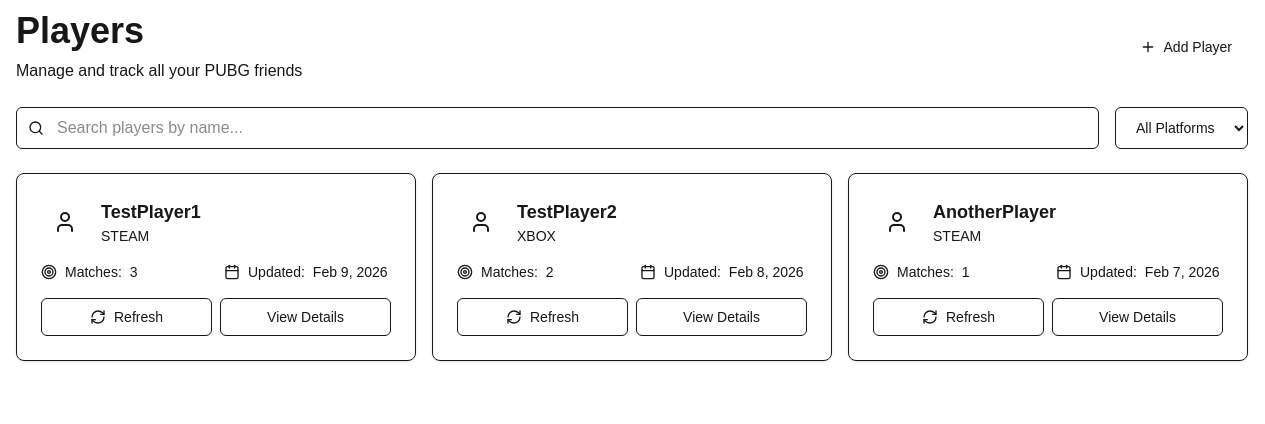
Test: Players Page Integration Tests › shows empty state when no players match filters
Expected: the heading "TestPlayer1" is shown, [101,198,201,226]
Type "NonExistentPlayer" into the field with placeholder "Search players by name...".
click(558, 128); type("NonExistentPlayer")  # box [16,107,1099,149]
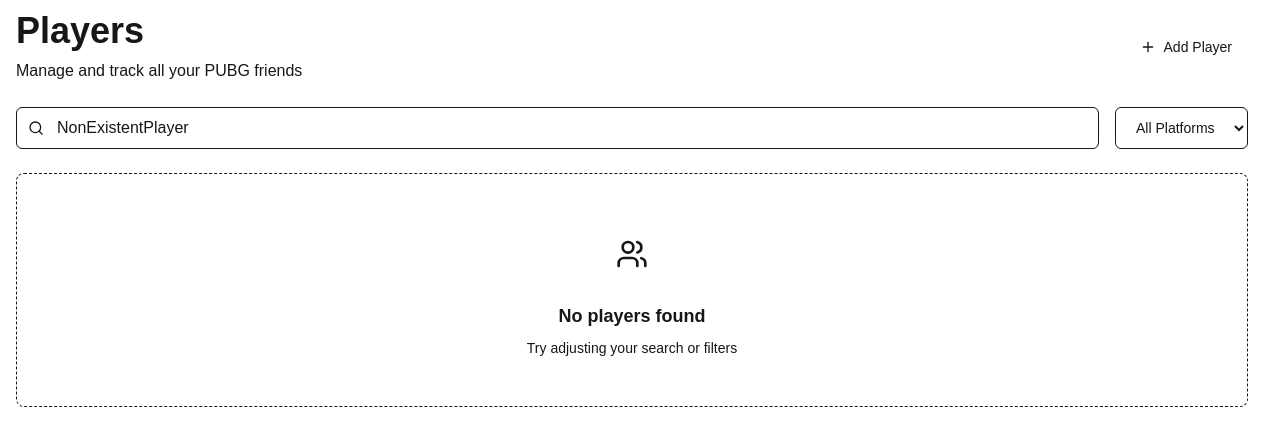
Expected: the heading "No players found" is shown, [558,302,706,330]
Expected: the text "Try adjusting your search or filters" is shown, [527,338,737,358]
